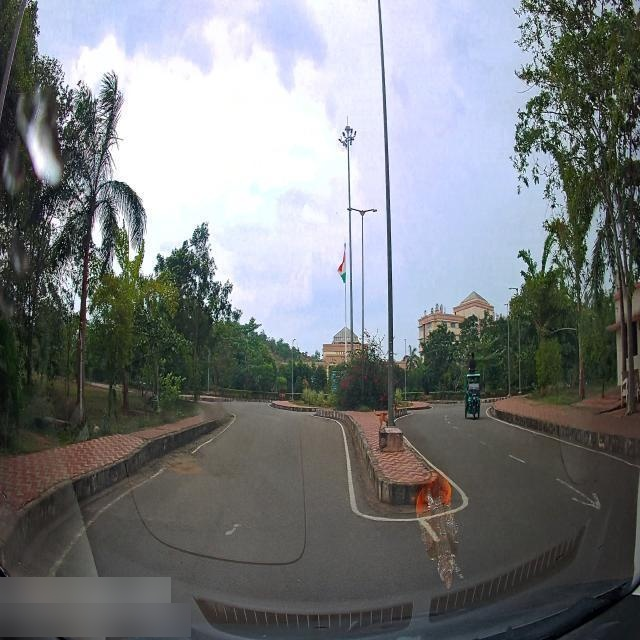pothole: (169, 452, 199, 476)
